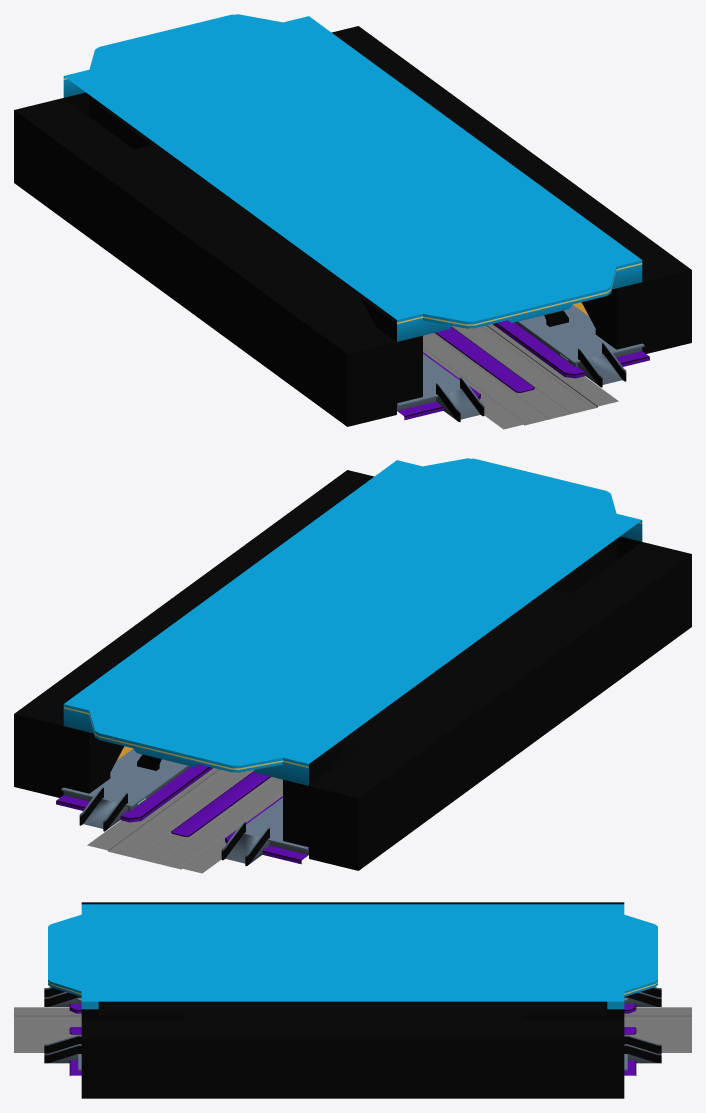
The model's file is Estructura_Columnas_Ciudad.FBX.
3 views of the same model, one above another, from view 1: azimuth 30°, elevation 25°; view 2: azimuth 150°, elevation 25°; view 3: azimuth 270°, elevation 25° (orthographic). The views are drawn at different scales.
Visible parts, largest first — view 1: Estructura_Columnas_Ciudad, Estructura_Columnas_Tramo_Ciudad; view 2: Estructura_Columnas_Ciudad, Estructura_Columnas_Tramo_Ciudad; view 3: Estructura_Columnas_Ciudad, Estructura_Columnas_Tramo_Ciudad.
Part boxes in pixels (bbox=[...]): Estructura_Columnas_Ciudad: bbox=[14, 14, 691, 426]; Estructura_Columnas_Tramo_Ciudad: bbox=[423, 324, 618, 429]; Estructura_Columnas_Ciudad: bbox=[14, 458, 691, 870]; Estructura_Columnas_Tramo_Ciudad: bbox=[87, 768, 282, 873]; Estructura_Columnas_Ciudad: bbox=[44, 902, 661, 1098]; Estructura_Columnas_Tramo_Ciudad: bbox=[14, 1007, 691, 1052].
Size of the model in its own units: 4773 by 10000 by 1270.
